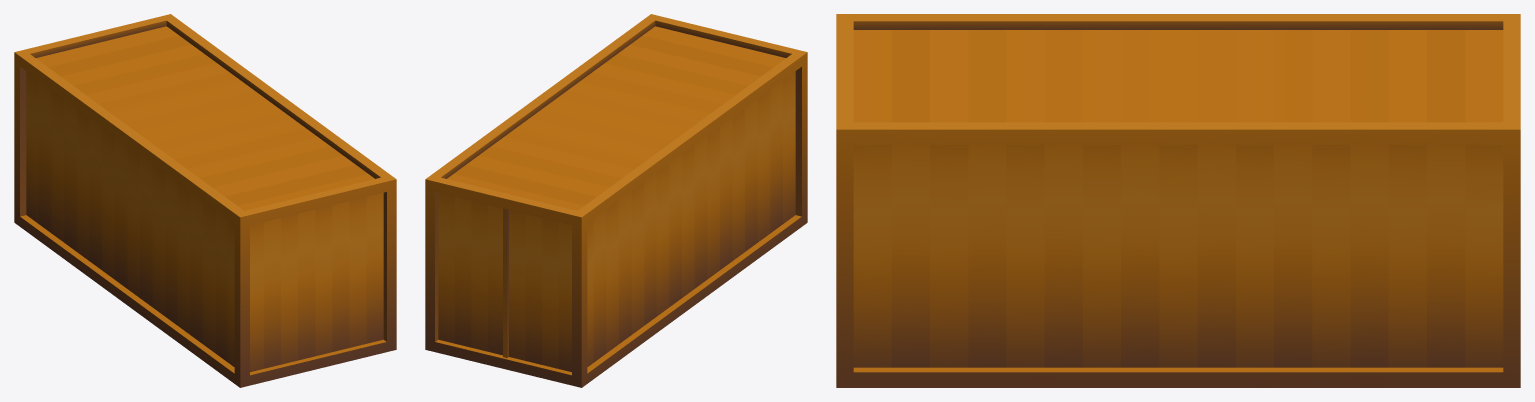
File: Container_1E.fbx
3 views of the same model, side by side, from view 1: azimuth 30°, elevation 25°; view 2: azimuth 150°, elevation 25°; view 3: azimuth 270°, elevation 25° (orthographic). The views are drawn at different scales.
Visible parts, largest first — view 1: Container_1E; view 2: Container_1E; view 3: Container_1E.
Boxes of the visible parts, x1,y1,x2,y2 form: Container_1E: (14, 14, 396, 387); Container_1E: (425, 14, 807, 387); Container_1E: (836, 14, 1520, 387).
Size of the model in its own units: 2.4 by 2.5 by 6.
